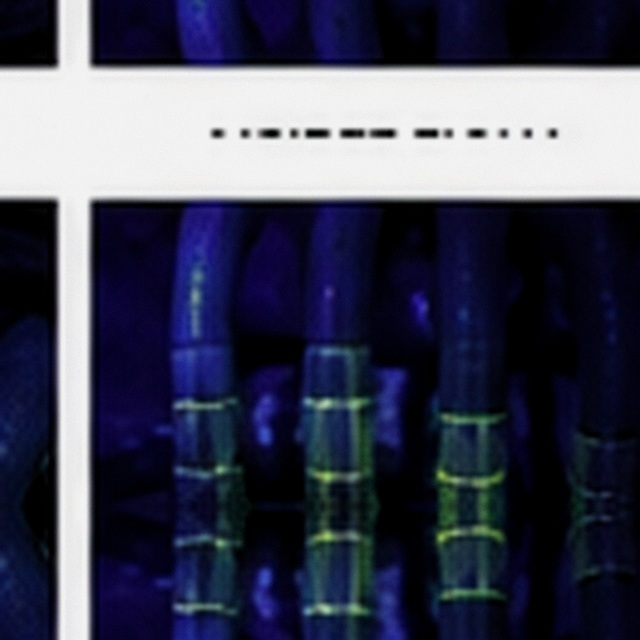hydraulic_oil_leak: (441, 415, 495, 451), (473, 472, 502, 539), (436, 466, 456, 546), (307, 520, 334, 545), (307, 467, 334, 492), (353, 552, 367, 596), (311, 551, 327, 588), (311, 428, 325, 461), (352, 409, 359, 459), (203, 463, 229, 476), (346, 397, 368, 406), (214, 538, 229, 550), (444, 431, 454, 441), (359, 536, 369, 545), (330, 398, 338, 406), (346, 349, 354, 357), (364, 468, 369, 474), (217, 405, 223, 410), (309, 399, 313, 406), (444, 570, 448, 576), (229, 399, 235, 403), (225, 556, 229, 561), (202, 536, 207, 540), (225, 451, 228, 456), (365, 447, 368, 450), (317, 411, 320, 414), (316, 599, 319, 601)
